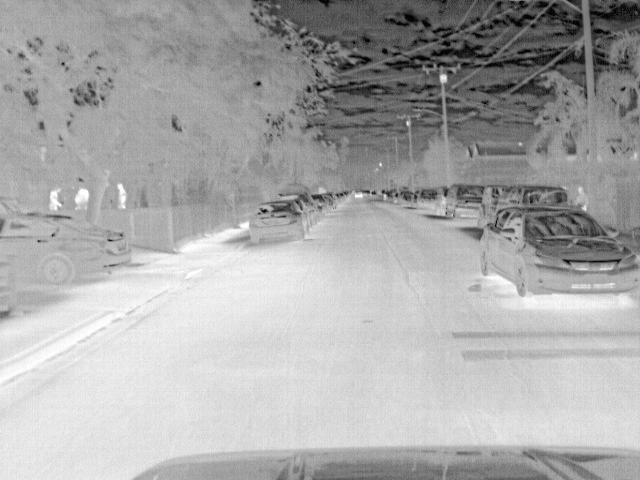car: (476, 205, 640, 299), (16, 210, 133, 289), (250, 200, 306, 246), (442, 183, 486, 220), (499, 188, 567, 210), (280, 186, 320, 221), (417, 189, 443, 211), (312, 194, 328, 215), (399, 191, 417, 207), (322, 192, 337, 210)
person: (573, 183, 591, 214), (114, 182, 127, 216), (75, 187, 93, 211), (48, 186, 62, 210)
